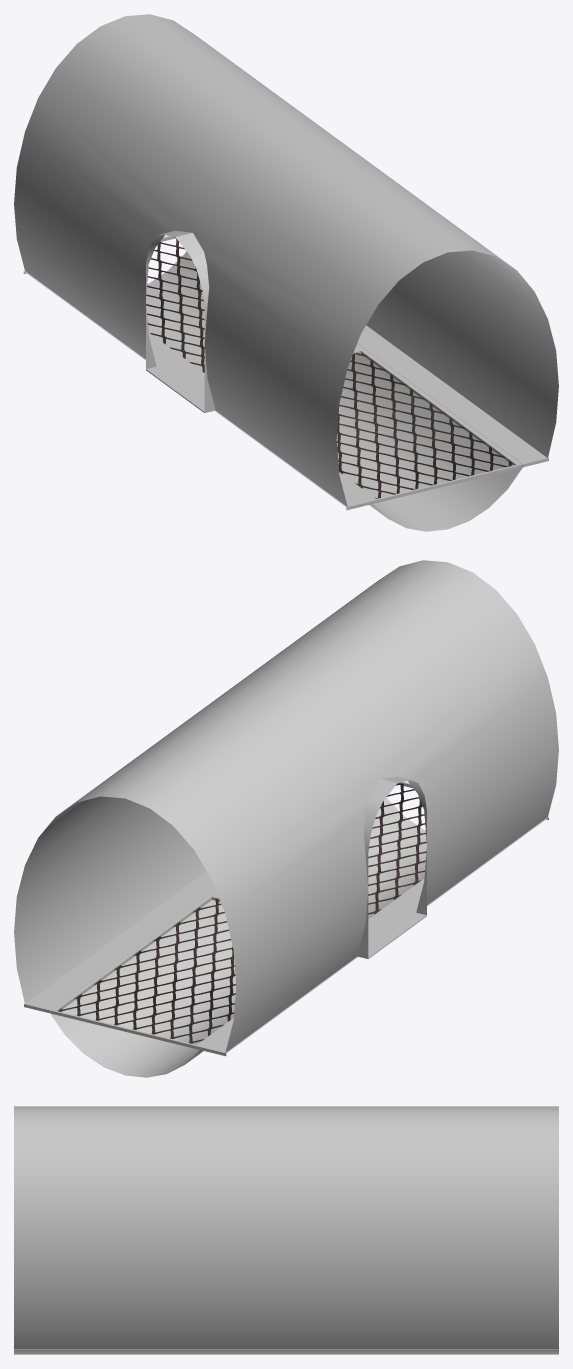
The model's file is Module_Tunel.fbx.
The picture shows the model from 3 angles, top to bottom: view 1: azimuth 30°, elevation 25°; view 2: azimuth 150°, elevation 25°; view 3: azimuth 270°, elevation 25°; orthographic projection. The views are drawn at different scales.
Visible parts, largest first — view 1: Module_Tunel; view 2: Module_Tunel; view 3: Module_Tunel.
Part boxes in pixels (bbox=[...]): Module_Tunel: bbox=[14, 14, 558, 531]; Module_Tunel: bbox=[14, 560, 558, 1077]; Module_Tunel: bbox=[14, 1106, 558, 1354].
Size of the model in its own units: 902 by 1074 by 2267.
